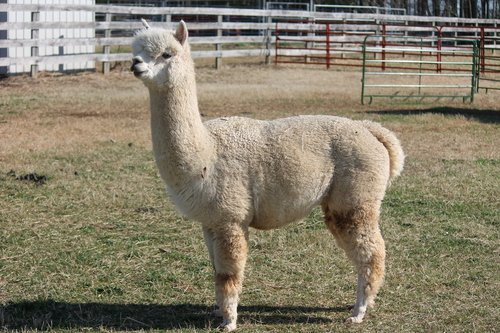alpaca: (129, 17, 405, 333)
